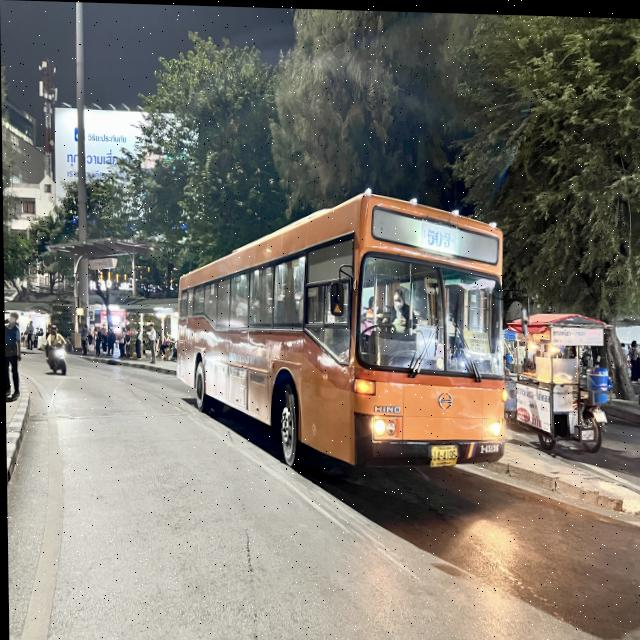BMTA-bus: (172, 185, 508, 477)
Bus-Line-Number: (418, 218, 458, 253)
Destination-Sign-Normal-Expressway: (461, 328, 491, 354)
